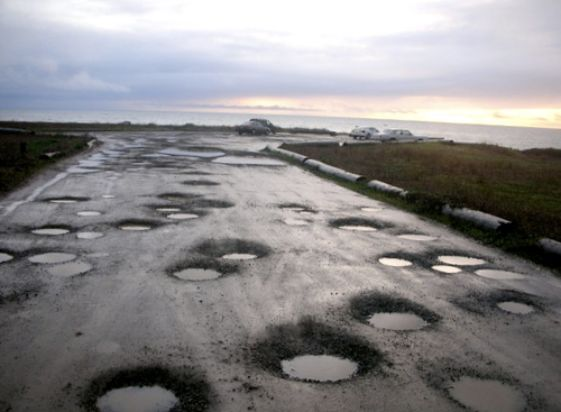pothole: (249, 325, 379, 386), (85, 363, 211, 412), (432, 366, 538, 412), (337, 290, 442, 333), (26, 246, 97, 281), (163, 258, 239, 281), (201, 238, 276, 261), (492, 291, 539, 318), (328, 215, 390, 235), (433, 248, 492, 268), (150, 202, 203, 223), (470, 267, 530, 281), (370, 252, 413, 268), (30, 224, 75, 238), (112, 218, 159, 230), (431, 264, 464, 274)
